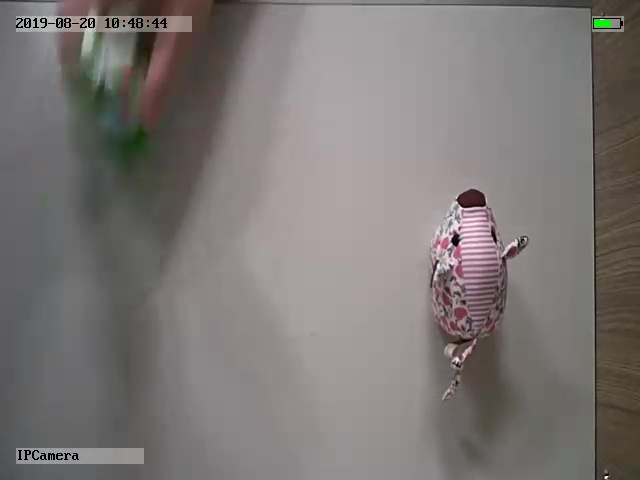pig: (426, 188, 530, 401)
